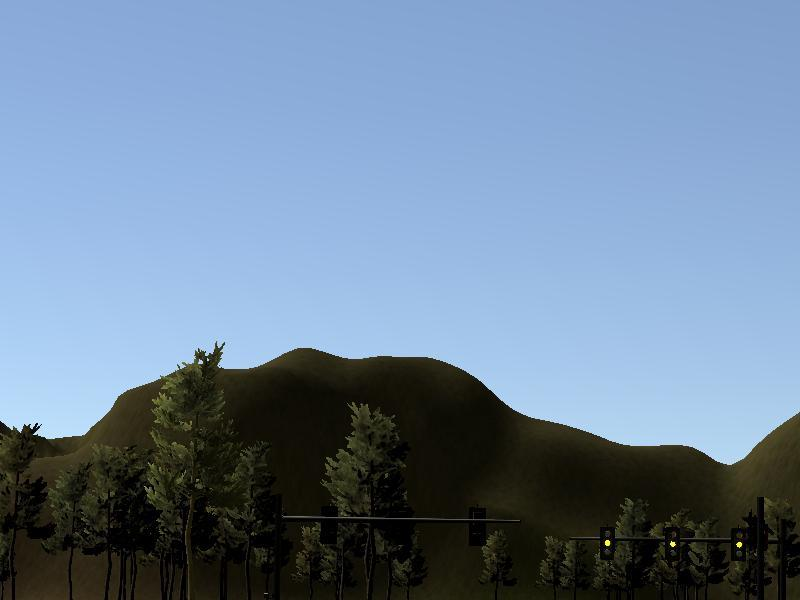Yellow: (730, 528, 746, 562), (665, 527, 680, 561), (600, 527, 615, 560)
